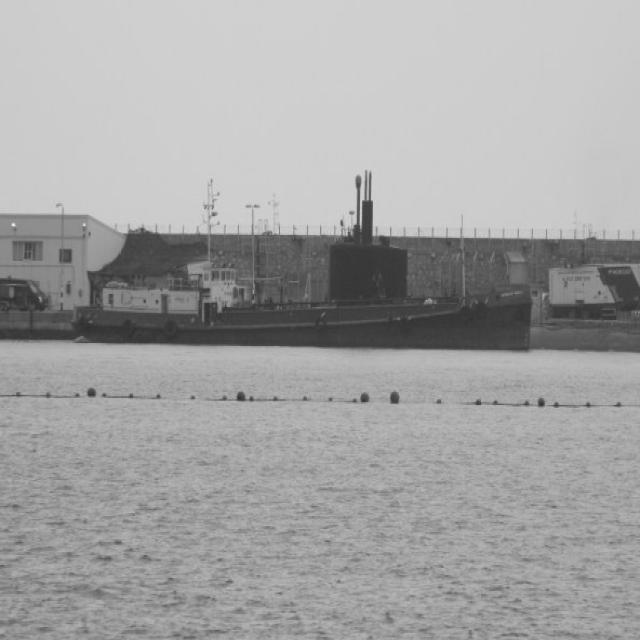submarine: (320, 161, 413, 304)
